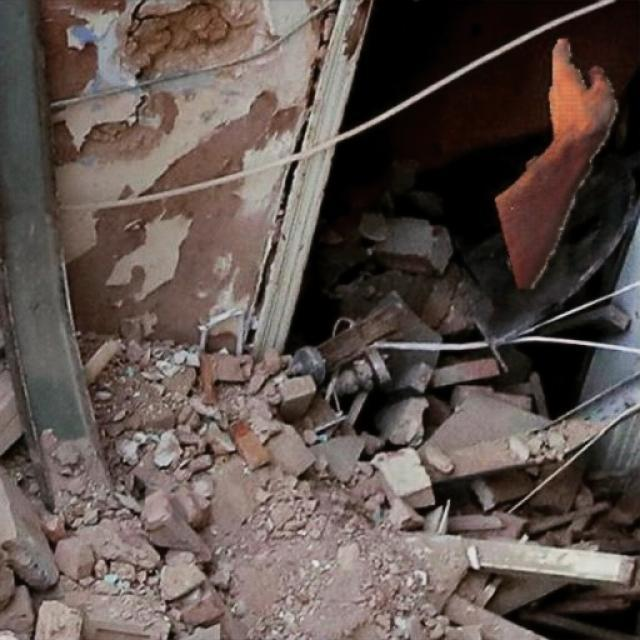Person in Rubble: (494, 39, 616, 288)
